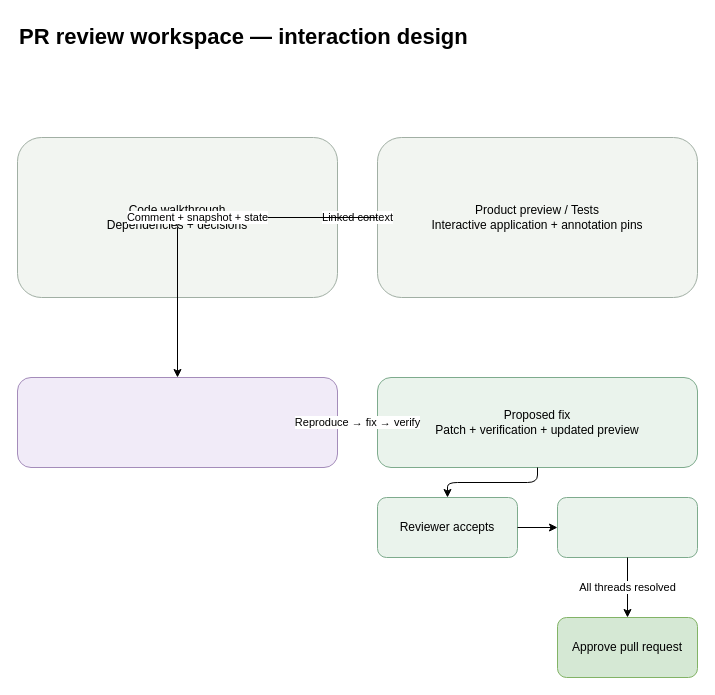
Some shapes in this 715 by 695 pixel diagram are drawn without their labels. Each missing label, with the centre of its shape:
"Author approves or requests changes" belongs at point 627,527.
"Shared review conversation Typed feedback or voice transcript + captured context" belongs at point 177,422.
